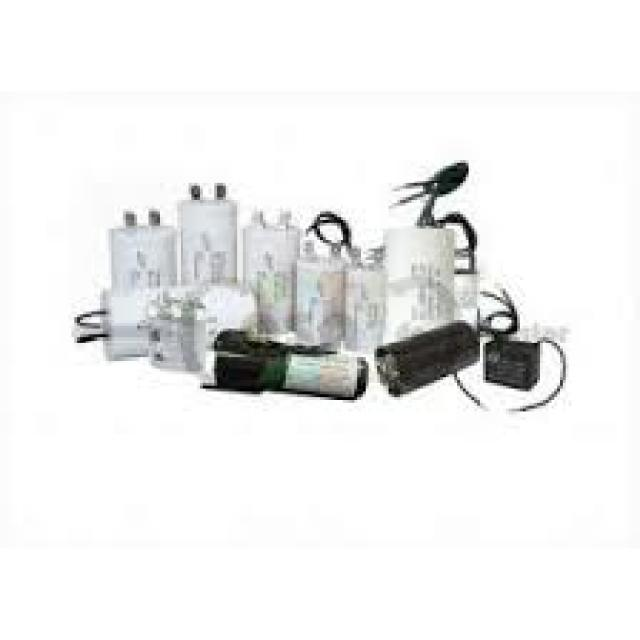Capacitor: (383, 227, 456, 344), (110, 221, 171, 312), (178, 198, 238, 282), (110, 214, 175, 290), (242, 213, 299, 291), (347, 258, 388, 351)
